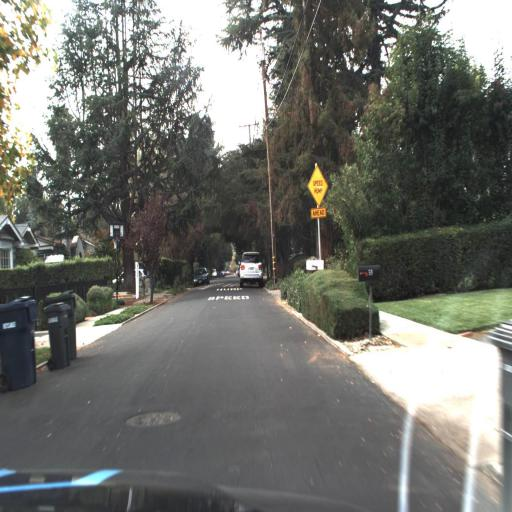car: (236, 248, 265, 287), (190, 265, 212, 290)
